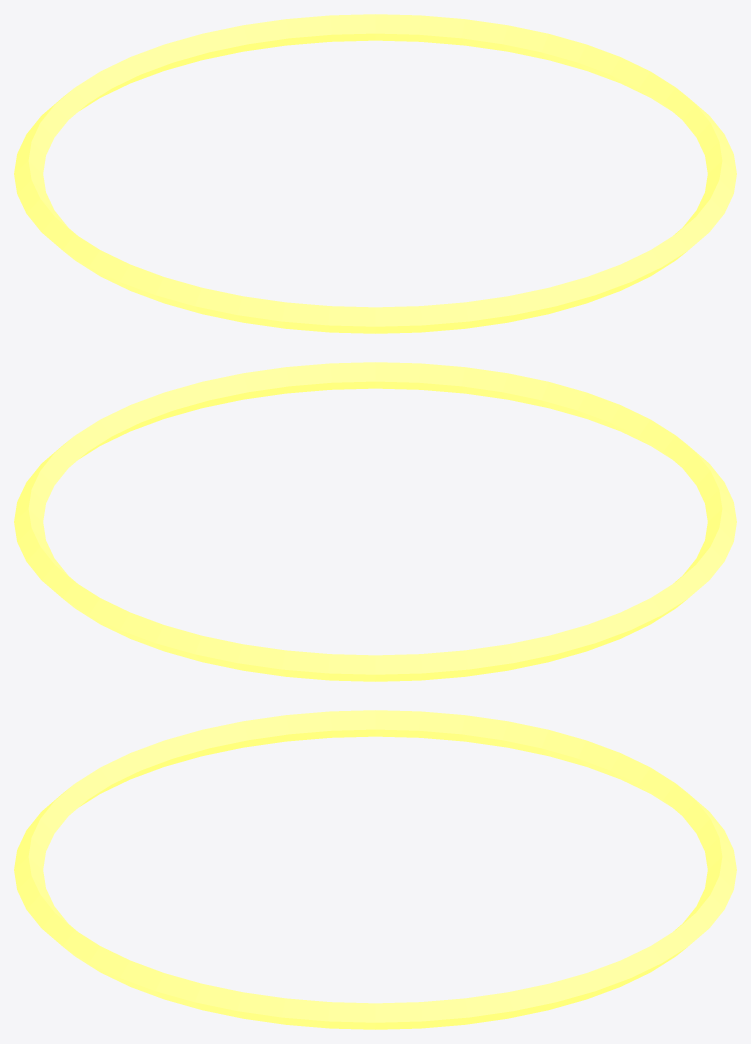
File: perfect_week_halo.glb
The picture shows the model from 3 angles, top to bottom: view 1: azimuth 30°, elevation 25°; view 2: azimuth 150°, elevation 25°; view 3: azimuth 270°, elevation 25°; orthographic projection.
Parts seen in each view (by area): view 1: halo; view 2: halo; view 3: halo.
Boxes of the visible parts, box(x1,y1,x2,y2) form: halo: box(14, 14, 736, 333); halo: box(14, 362, 736, 681); halo: box(14, 710, 736, 1029).
Size of the model in its own units: 0.792 by 0.032 by 0.792.
